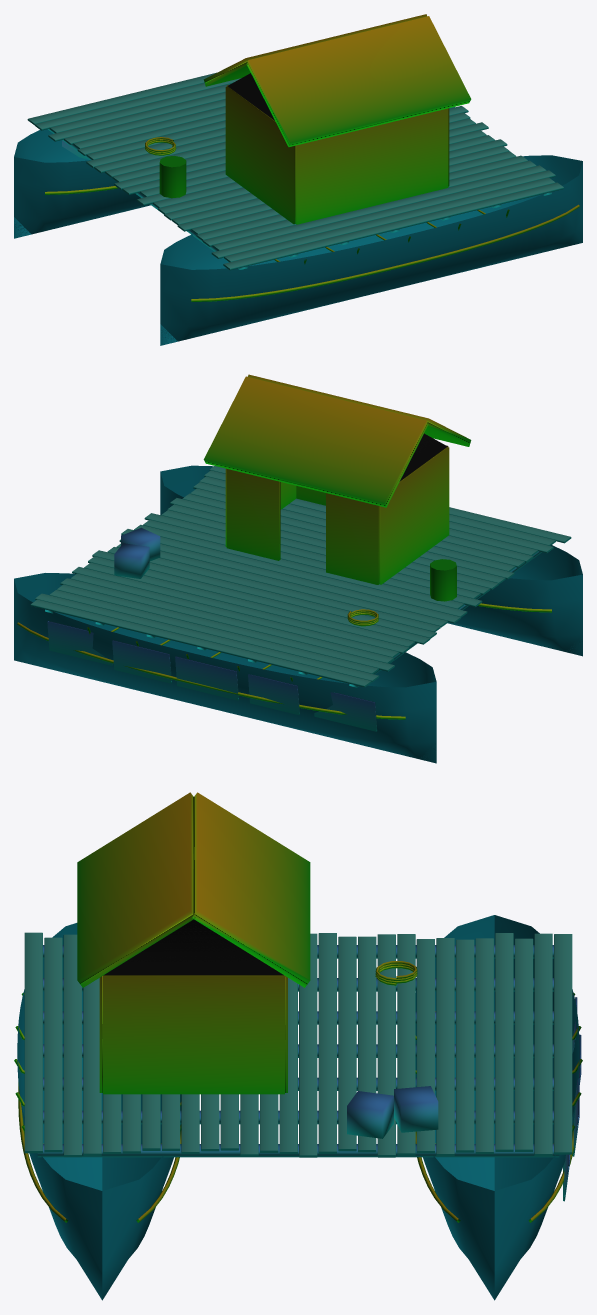
File: hm_lashed_hulls.glb
3 views of the same model, one above another, from view 1: azimuth 30°, elevation 25°; view 2: azimuth 150°, elevation 25°; view 3: azimuth 270°, elevation 25° (orthographic). The views are drawn at different scales.
Visible parts, largest first — view 1: hm_lashed_hulls; view 2: hm_lashed_hulls; view 3: hm_lashed_hulls.
Boxes of the visible parts, x1,y1,x2,y2 form: hm_lashed_hulls: [14, 14, 582, 345]; hm_lashed_hulls: [14, 374, 582, 763]; hm_lashed_hulls: [14, 792, 582, 1300].
Size of what is drawn, in the model's own units: 10 by 5.25 by 8.7.
